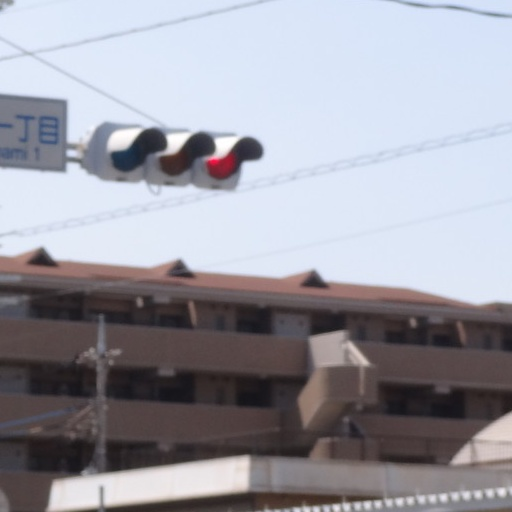Traffic_Signal_Red: (95, 120, 258, 189)
